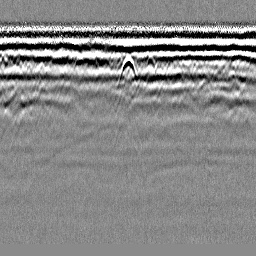cavity: (116, 52, 139, 88)
